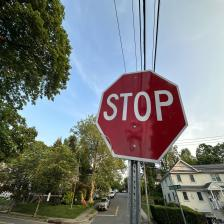Stop-sign: (93, 66, 191, 166)
